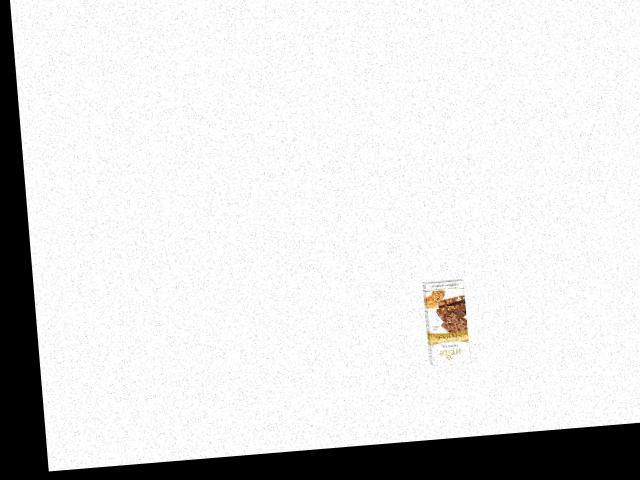chocolate: (420, 276, 472, 369)
